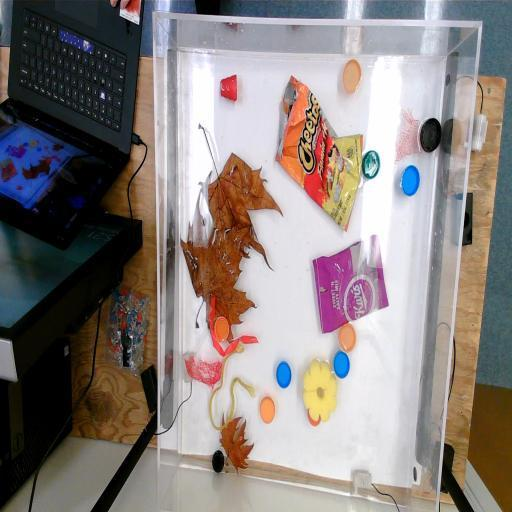Bottle Cap: (420, 116, 442, 152), (342, 58, 362, 95), (400, 164, 420, 198), (361, 148, 381, 180), (338, 324, 357, 352), (334, 350, 350, 379), (260, 396, 276, 424), (276, 360, 292, 388), (214, 316, 230, 342), (212, 450, 225, 474), (307, 408, 321, 426)
Cone Cap: (220, 74, 238, 104)
Leaf: (198, 122, 284, 274), (180, 221, 258, 344), (219, 410, 255, 476)
Netting: (394, 107, 424, 163), (184, 356, 222, 392)
Plastic Bag: (274, 74, 364, 234), (312, 234, 390, 334)
Plastic Strand: (208, 340, 256, 432), (208, 294, 260, 358)
Sponge: (302, 359, 338, 423)
